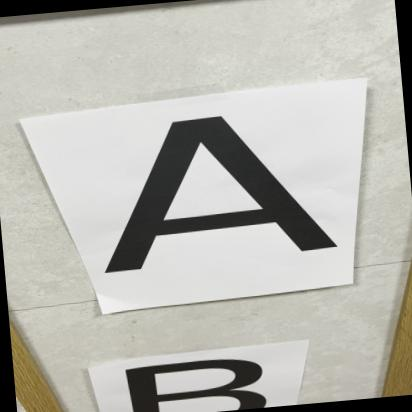seat: (78, 101, 367, 276)
